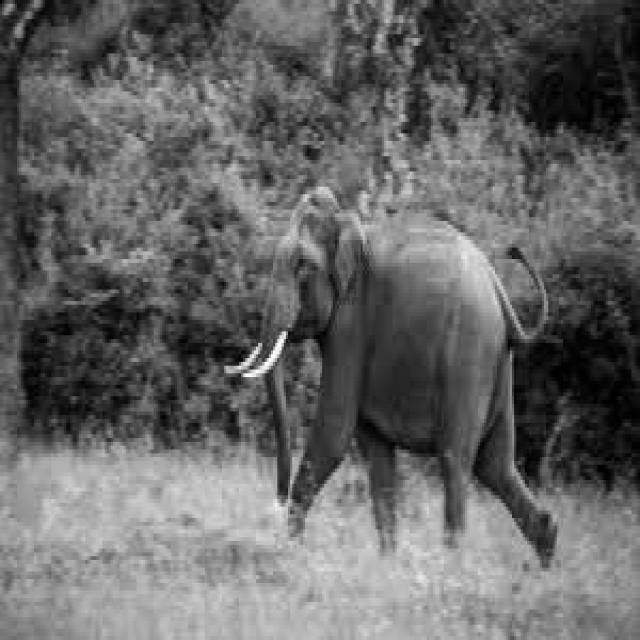Elephant: (222, 182, 559, 568)
